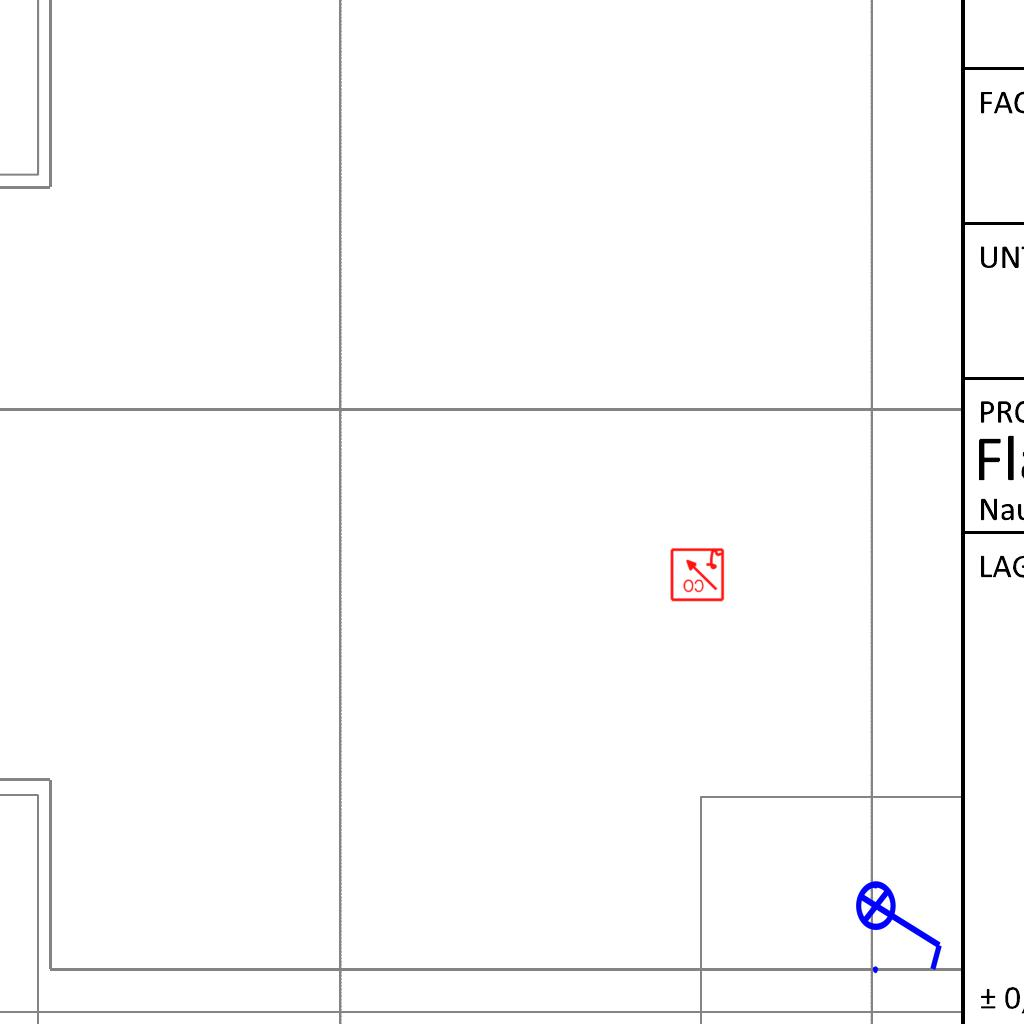Ausschalter_beleuchtet: (854, 867, 950, 979)
ROA_Rauchmelder_optisch_mit_Signalgeber_(Sockelsirene): (669, 546, 725, 602)
